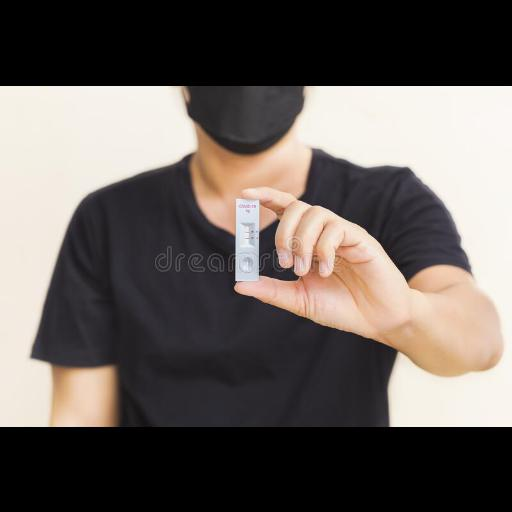Pos: (236, 198, 258, 278)
